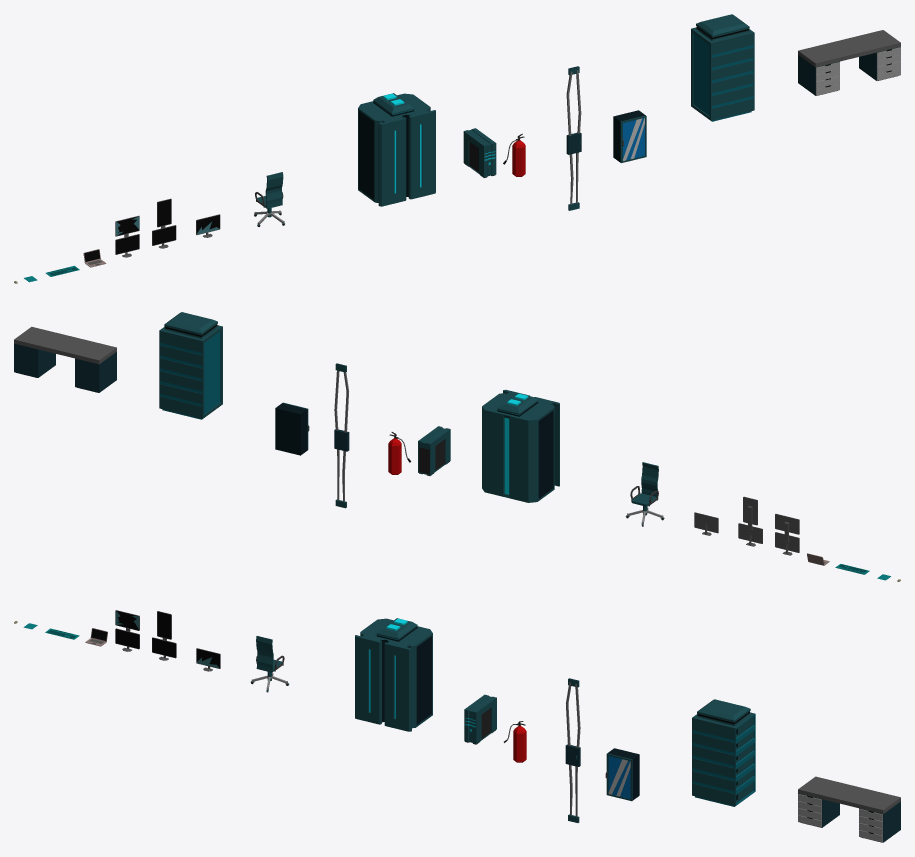
The model's file is Props for computer center.fbx.
3 renders of one model, top to bottom at view 1: azimuth 30°, elevation 25°; view 2: azimuth 150°, elevation 25°; view 3: azimuth 330°, elevation 25°, orthographic.
Visible parts, largest first — view 1: server_2, server, desk, box, pc, electric cable, chair, display, display.001, Circle; view 2: server_2, server, desk, box, pc, electric cable, chair, display, display.001, Circle; view 3: server_2, server, desk, box, pc, electric cable, chair, display, display.001, Circle.
Boxes of the visible parts, x1,y1,x2,y2 form: server_2: (358,93,435,206); server: (691,14,754,121); desk: (798,30,900,95); box: (613,110,646,163); pc: (463,128,496,177); electric cable: (566,66,581,210); chair: (254,172,284,226); display: (115,215,139,257); display.001: (152,198,176,248); Circle: (503,133,525,176); server_2: (482,389,559,502); server: (159,312,222,419); desk: (14,326,116,392); box: (275,402,309,455); pc: (418,426,450,475); electric cable: (334,363,349,508); chair: (625,462,664,526); display: (775,514,799,555); display.001: (738,496,762,546); Circle: (388,432,410,474); server_2: (355,618,432,731); server: (692,699,755,806); desk: (798,776,900,842); box: (605,748,639,801); pc: (464,694,496,744); electric cable: (565,678,580,822); chair: (250,636,289,692); display: (115,610,139,651); display.001: (152,611,176,660); Circle: (504,721,526,762).
Bounding box in the file's own units: 24.85 × 4.13 × 1.28.
